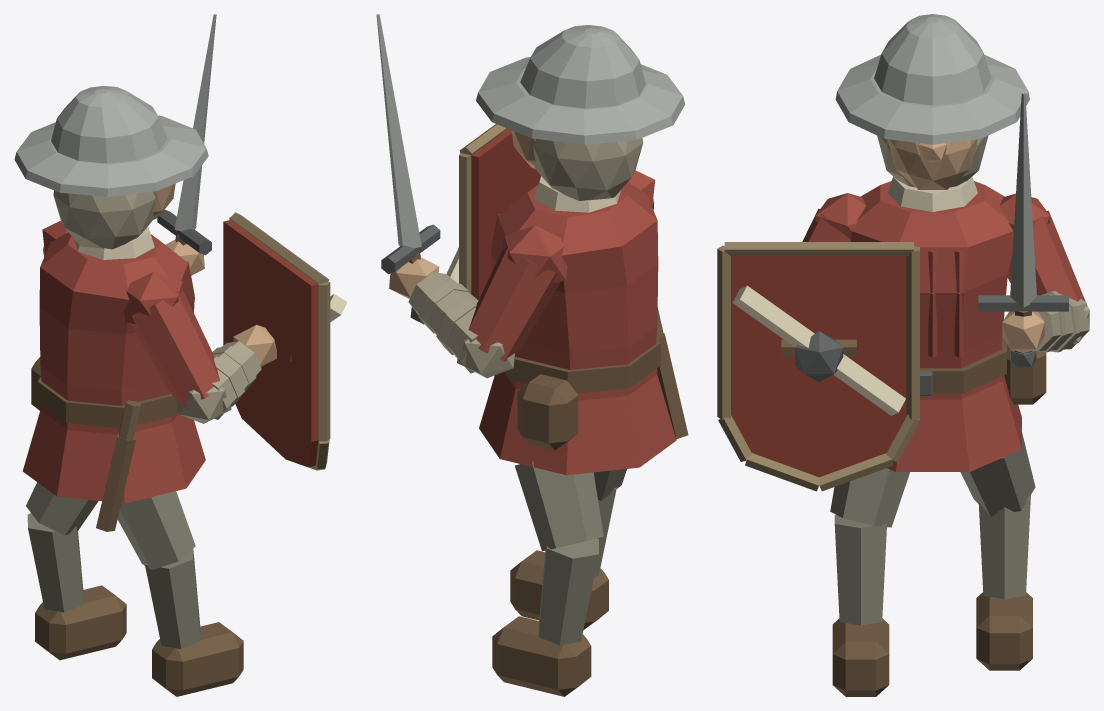
Rendered from infantry_shield.glb.
3 renders of one model, left to right at view 1: azimuth 30°, elevation 25°; view 2: azimuth 150°, elevation 25°; view 3: azimuth 270°, elevation 25°, orthographic. The views are drawn at different scales.
Visible parts, largest first — view 1: infantry_shield_team_cloth, infantry_shield_steel, infantry_shield_team_paint, infantry_shield_leather, infantry_shield_hose, infantry_shield_padded_linen, infantry_shield_shield_edge, infantry_shield_skin, infantry_shield_linen, infantry_shield_iron, infantry_shield_oak_dark; view 2: infantry_shield_team_cloth, infantry_shield_steel, infantry_shield_leather, infantry_shield_hose, infantry_shield_padded_linen, infantry_shield_team_paint, infantry_shield_shield_edge, infantry_shield_skin, infantry_shield_linen, infantry_shield_iron; view 3: infantry_shield_team_cloth, infantry_shield_team_paint, infantry_shield_steel, infantry_shield_hose, infantry_shield_leather, infantry_shield_shield_edge, infantry_shield_linen, infantry_shield_skin, infantry_shield_iron, infantry_shield_padded_linen.
Part boxes in pixels (x1,y1,x2,y2): infantry_shield_team_cloth: [22, 220, 219, 503]; infantry_shield_steel: [14, 14, 216, 231]; infantry_shield_team_paint: [223, 220, 318, 467]; infantry_shield_leather: [31, 234, 291, 696]; infantry_shield_hose: [26, 482, 200, 648]; infantry_shield_padded_linen: [53, 190, 261, 423]; infantry_shield_shield_edge: [229, 212, 330, 470]; infantry_shield_skin: [152, 183, 276, 366]; infantry_shield_linen: [74, 226, 347, 322]; infantry_shield_iron: [157, 209, 211, 255]; infantry_shield_oak_dark: [119, 400, 140, 439]; infantry_shield_team_cloth: [468, 170, 676, 475]; infantry_shield_steel: [376, 14, 685, 248]; infantry_shield_leather: [409, 252, 688, 696]; infantry_shield_hose: [515, 461, 626, 645]; infantry_shield_padded_linen: [408, 138, 643, 378]; infantry_shield_team_paint: [471, 129, 540, 299]; infantry_shield_shield_edge: [459, 124, 507, 293]; infantry_shield_skin: [389, 130, 536, 298]; infantry_shield_linen: [446, 176, 620, 283]; infantry_shield_iron: [381, 224, 440, 324]; infantry_shield_team_cloth: [802, 181, 1085, 471]; infantry_shield_team_paint: [731, 256, 906, 477]; infantry_shield_steel: [835, 14, 1036, 307]; infantry_shield_hose: [830, 428, 1035, 625]; infantry_shield_leather: [781, 311, 1046, 696]; infantry_shield_shield_edge: [717, 242, 920, 491]; infantry_shield_linen: [732, 176, 977, 415]; infantry_shield_skin: [887, 139, 1044, 353]; infantry_shield_iron: [795, 295, 1068, 395]; infantry_shield_padded_linen: [877, 135, 1089, 352].
Bounding box in the file's own units: 0.7813 × 1.86 × 0.9851.
